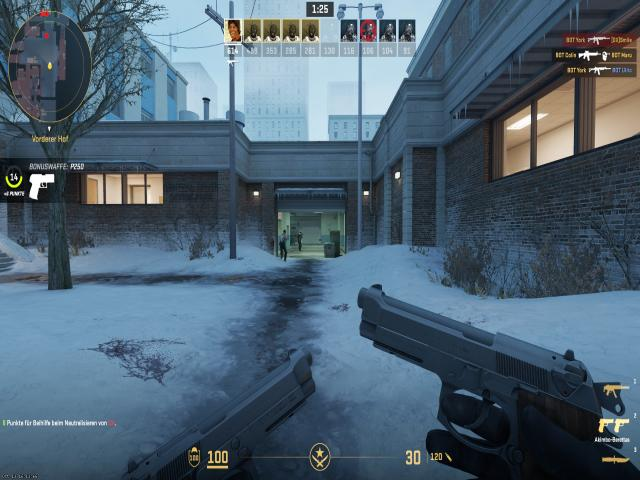CT: (298, 231, 302, 250)
CT-Head: (299, 232, 302, 234)
T: (281, 229, 287, 258)
T-Head: (283, 230, 286, 234)
